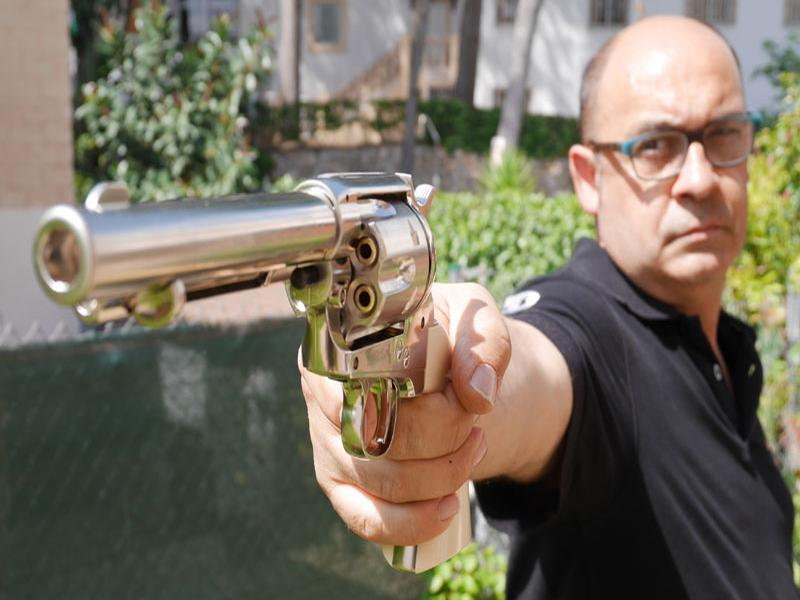Revolver: (31, 154, 460, 446)
